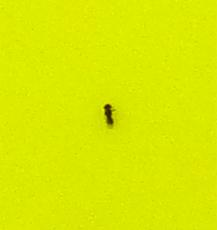Brachycera: (100, 100, 117, 130)
